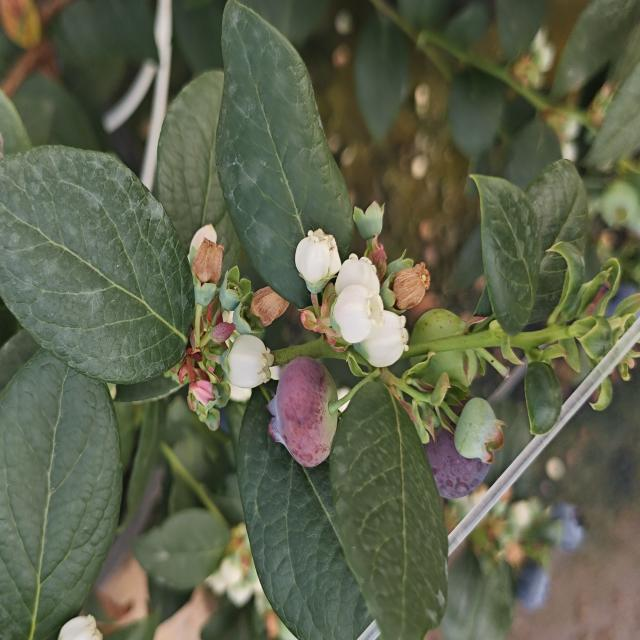ripe: (425, 399, 484, 502), (542, 487, 587, 556), (506, 542, 550, 608)
